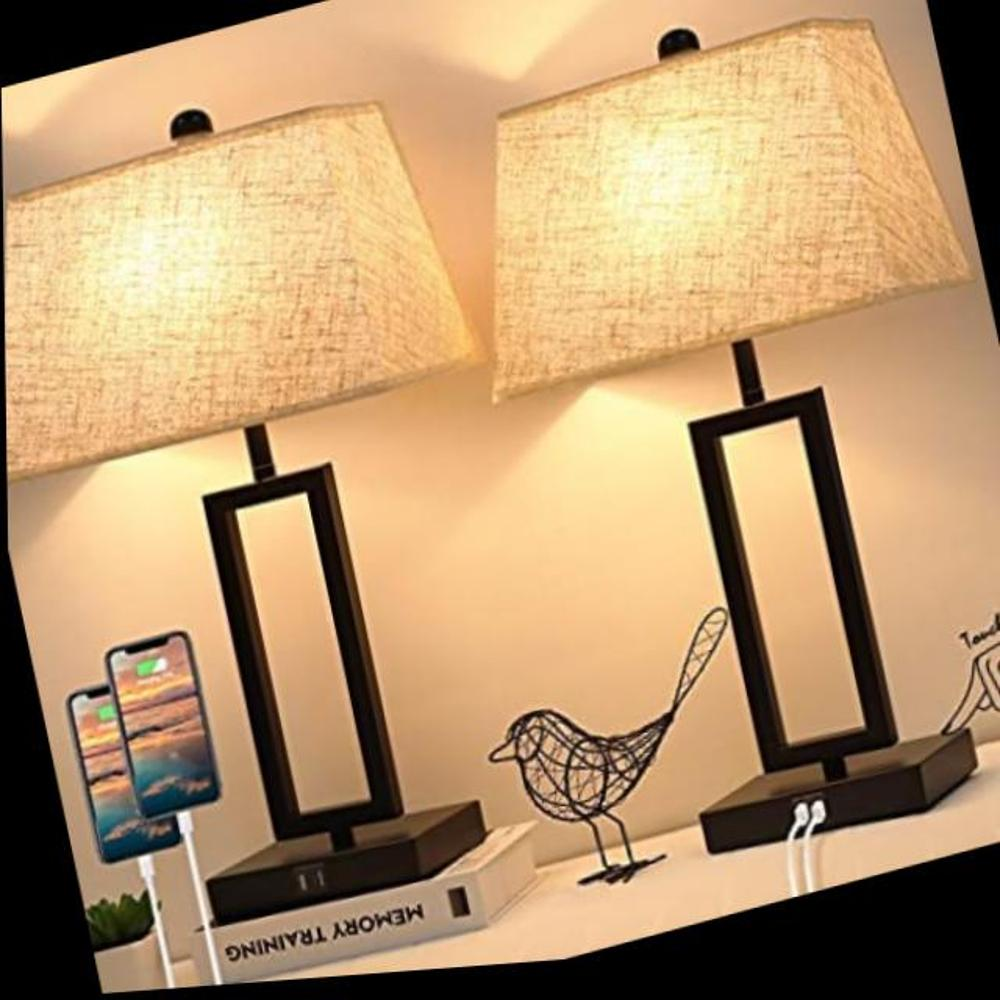shelf: (1, 23, 586, 977), (425, 0, 1000, 922)
